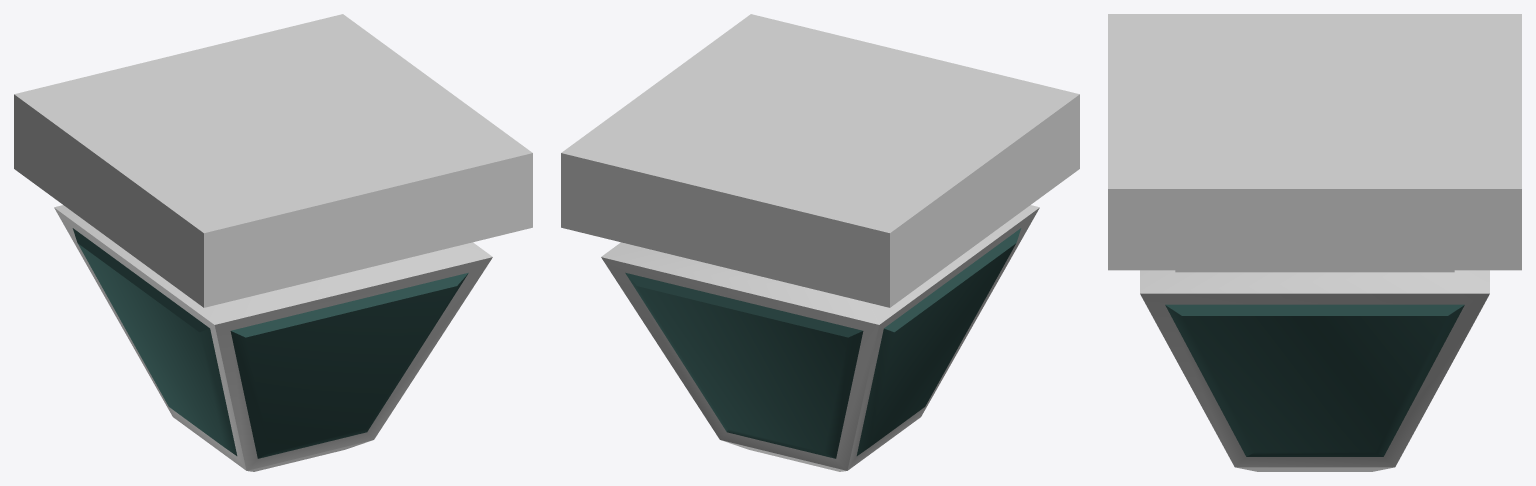
Rendered from PongChamp_Assets_ScoreBoard.glb.
3 views of the same model, side by side, from view 1: azimuth 30°, elevation 25°; view 2: azimuth 150°, elevation 25°; view 3: azimuth 270°, elevation 25° (orthographic). The views are drawn at different scales.
Visible parts, largest first — view 1: score.001; view 2: score.001; view 3: score.001.
Boxes of the visible parts, bbox=[...] form: score.001: bbox=[14, 14, 532, 471]; score.001: bbox=[561, 14, 1079, 471]; score.001: bbox=[1108, 14, 1521, 471].
Size of the model in its own units: 10.81 by 9.98 by 10.81.
